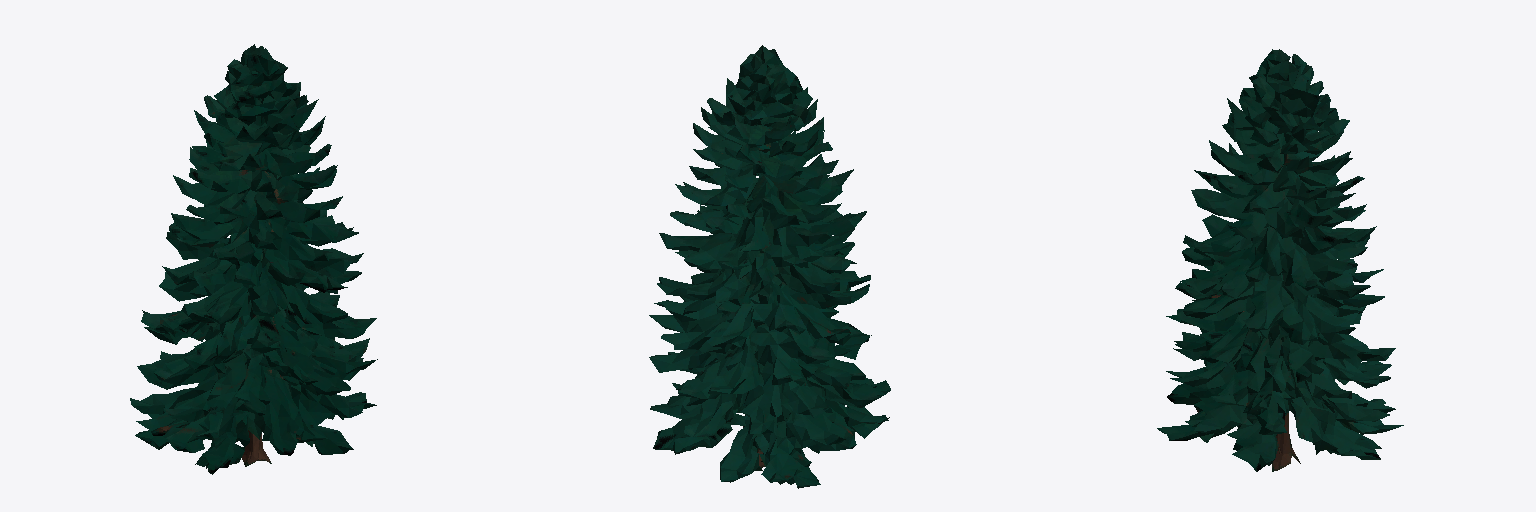
The picture shows the model from 3 angles: view 1: azimuth 30°, elevation 25°; view 2: azimuth 150°, elevation 25°; view 3: azimuth 270°, elevation 25°; orthographic projection.
Visible parts, largest first — view 1: tree; view 2: tree; view 3: tree.
Part boxes in pixels (bbox=[...]): tree: bbox=[130, 44, 377, 474]; tree: bbox=[649, 45, 890, 488]; tree: bbox=[1157, 49, 1403, 471].
Size of the model in its own units: 1.04 by 2.01 by 1.08.
1 materials, 1 textured.